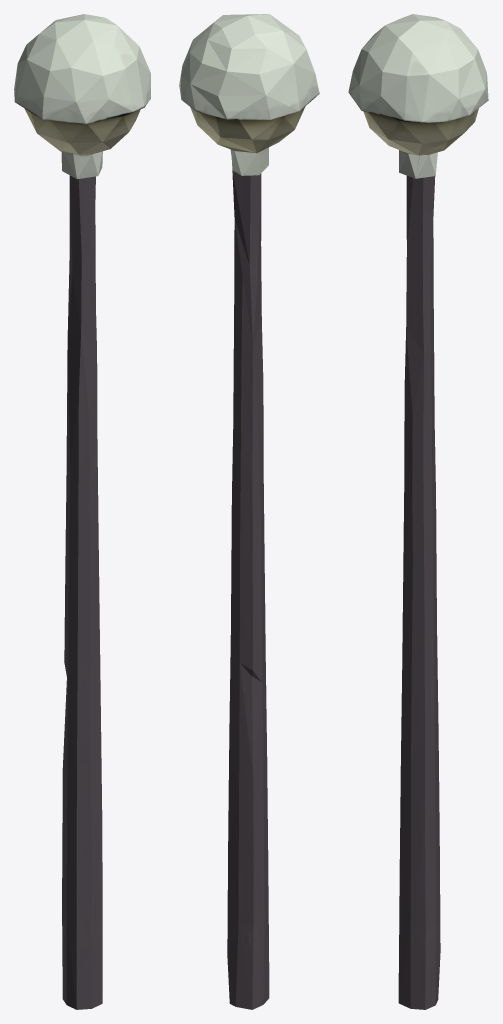
The model's file is Farola.glb.
3 renders of one model, left to right at view 1: azimuth 30°, elevation 25°; view 2: azimuth 150°, elevation 25°; view 3: azimuth 330°, elevation 25°, orthographic.
Parts seen in each view (by area): view 1: world; view 2: world; view 3: world.
Boxes of the visible parts, <box> form: world: <box>14,14,150,1009</box>; world: <box>179,14,319,1009</box>; world: <box>348,14,488,1009</box>.
Bounding box in the file's own units: 0.1271 × 1 × 0.1243.
Materials: 1 (1 with a texture image).
